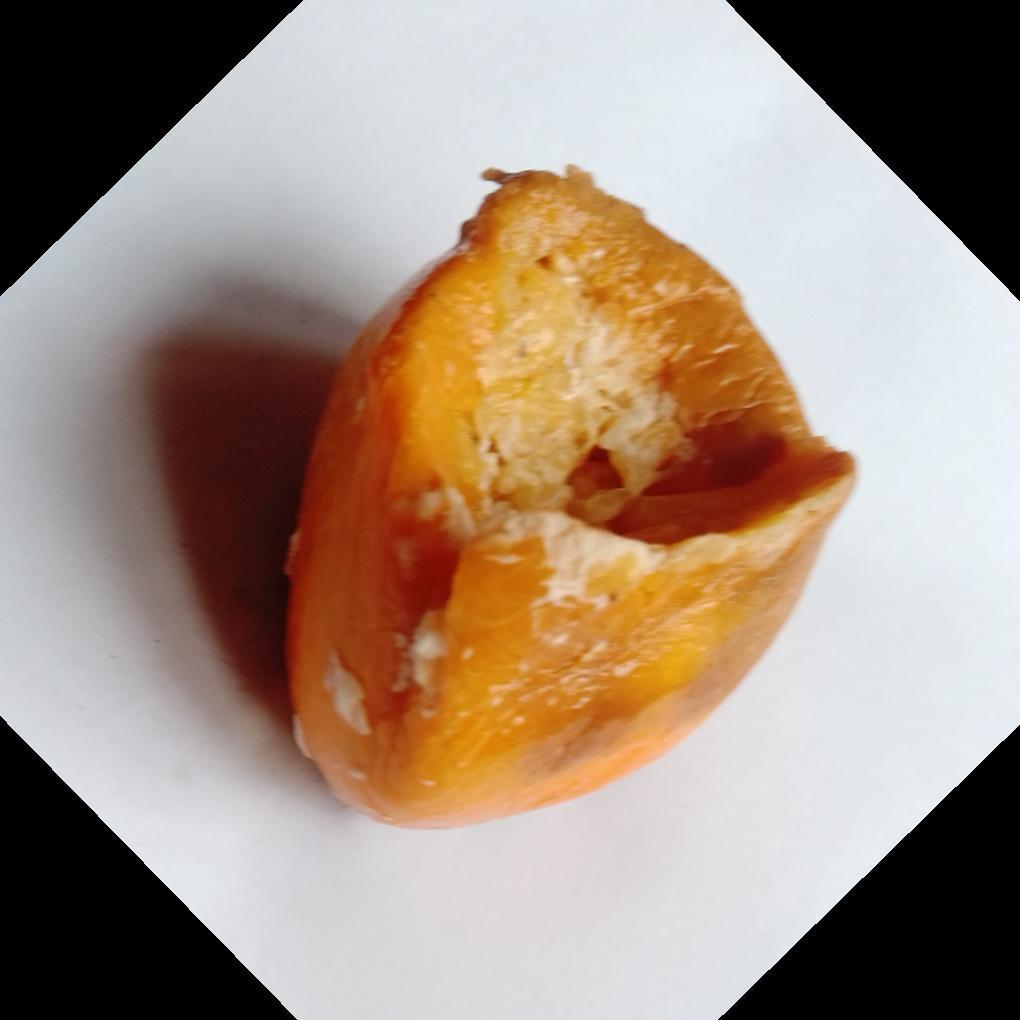FreshOrange: (280, 168, 857, 834)
